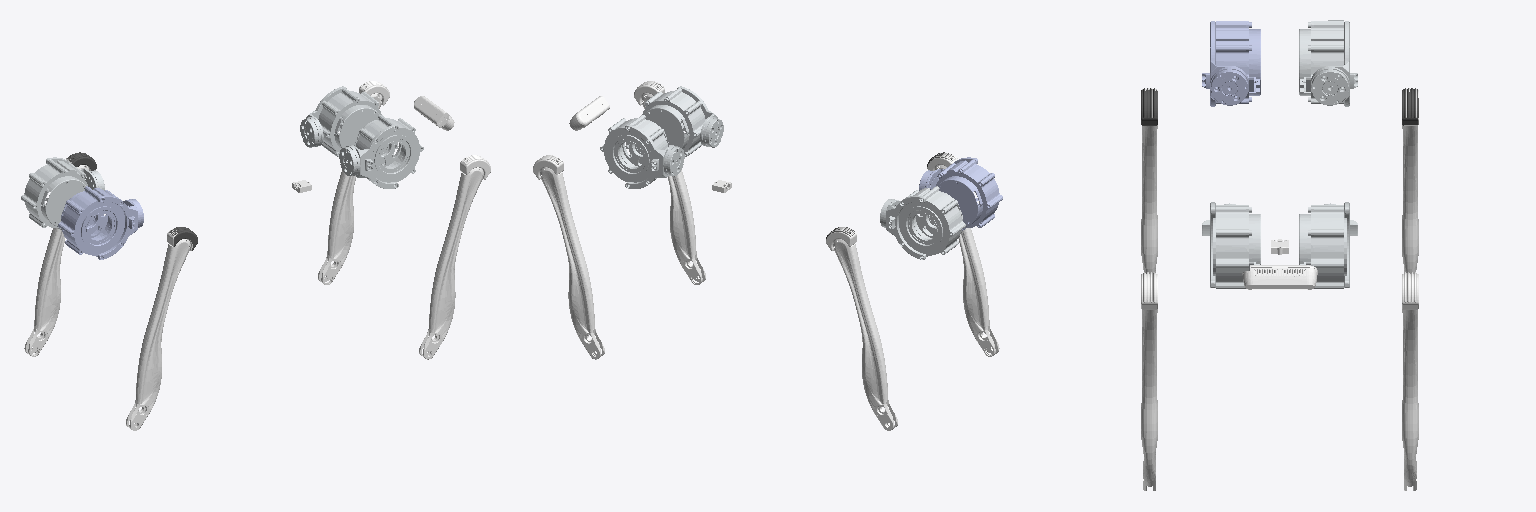
--- Facts derived from the render (not from the file) ---
Views: 3 orthographic renders of the robot side by side, from view 1: azimuth 30°, elevation 25°; view 2: azimuth 150°, elevation 25°; view 3: azimuth 270°, elevation 25°.
Model leg_urdf20250406_1 with 19 links and 18 joints (12 revolute, 6 fixed), rooted at base, posed every joint at zero.
Links seen in each view (by area): view 1: RH_hip, RF_hip, RF_calf, RH_calf, LF_hip, LH_hip, LF_calf, LH_calf, radar; view 2: LH_hip, LF_hip, LF_calf, LH_calf, RF_hip, RH_hip, RH_calf, RF_calf, radar; view 3: LH_hip, RH_hip, RF_hip, LF_hip, LF_calf, RF_calf, LH_calf, RH_calf, radar, RH_FOOT, LH_FOOT.
Link boxes in pixels (box(x1,y1,x2,y2)): RH_hip: box(58, 186, 143, 259); RF_hip: box(339, 115, 423, 188); RF_calf: box(419, 155, 490, 359); RH_calf: box(126, 229, 192, 430); LF_hip: box(300, 86, 381, 156); LH_hip: box(21, 157, 104, 230); LF_calf: box(318, 81, 389, 284); LH_calf: box(24, 156, 90, 356); radar: box(414, 96, 454, 130); LH_hip: box(880, 186, 965, 259); LF_hip: box(600, 115, 684, 188); LF_calf: box(533, 155, 604, 359); LH_calf: box(826, 227, 897, 430); RF_hip: box(642, 86, 723, 156); RH_hip: box(919, 157, 1002, 230); RH_calf: box(927, 153, 999, 356); RF_calf: box(634, 81, 705, 284); radar: box(569, 96, 609, 130); LH_hip: box(1299, 20, 1357, 106); RH_hip: box(1202, 21, 1260, 106); RF_hip: box(1202, 202, 1260, 288); LF_hip: box(1299, 202, 1357, 288); LF_calf: box(1402, 272, 1418, 490); RF_calf: box(1141, 272, 1157, 490); LH_calf: box(1402, 88, 1418, 273); RH_calf: box(1141, 88, 1157, 273); radar: box(1242, 265, 1317, 289); RH_FOOT: box(1141, 88, 1157, 125); LH_FOOT: box(1402, 88, 1418, 125).
Size in the robot's own frame: 0.7051 by 0.3324 by 0.3665 metres.
12 mesh visuals loaded from 19 distinct referenced files (12 binary STL); not drawn: 7 (reference not matched to a file when rendering).

URDF robot description (leg_urdf20250406_1):
<?xml version="1.0" encoding="utf-8"?>
<!-- This URDF was automatically created by SolidWorks to URDF Exporter! Originally created by Stephen Brawner ([email redacted]) 
     Commit Version: 1.6.0-4-g7f85cfe  Build Version: 1.6.7995.38578
     For more information, please see http://wiki.ros.org/sw_urdf_exporter -->
<robot
  name="leg_urdf20250406_1">
  <link
    name="base">
    <inertial>
      <origin
        xyz="-0.00666994354798821 -0.00367478648614624 -0.00479457299054264"
        rpy="0 0 0" />
      <mass
        value="5.3831834784074" />
      <inertia
        ixx="0.0134365880256581"
        ixy="-6.98705145585407E-06"
        ixz="-0.000207105149004796"
        iyy="0.0316650195136883"
        iyz="-9.53275616294603E-06"
        izz="0.0395984955133003" />
    </inertial>
    <visual>
      <origin
        xyz="0 0 0"
        rpy="0 0 0" />
      <geometry>
        <mesh
          filename="package://leg_urdf20250406_1/meshes/base.STL" />
      </geometry>
      <material
        name="">
        <color
          rgba="0.250980392156863 0.250980392156863 0.250980392156863 1" />
      </material>
    </visual>
    <collision>
      <origin
        xyz="0 0 0"
        rpy="0 0 0" />
      <geometry>
        <mesh
          filename="package://leg_urdf20250406_1/meshes/base.STL" />
      </geometry>
    </collision>
  </link>
  <link
    name="LF_hip">
    <inertial>
      <origin
        xyz="0.0428644646355625 -0.000473942948605782 -2.89259060404223E-05"
        rpy="0 0 0" />
      <mass
        value="0.163855342532761" />
      <inertia
        ixx="0.000123407065869539"
        ixy="-5.21571669964711E-06"
        ixz="-1.15545533581441E-06"
        iyy="0.000195800279741792"
        iyz="-9.89068374005758E-08"
        izz="0.000104939612250177" />
    </inertial>
    <visual>
      <origin
        xyz="0 0 0"
        rpy="0 0 0" />
      <geometry>
        <mesh
          filename="package://leg_urdf20250406_1/meshes/LF_hip.STL" />
      </geometry>
      <material
        name="">
        <color
          rgba="0.898039215686275 0.917647058823529 0.929411764705882 1" />
      </material>
    </visual>
    <collision>
      <origin
        xyz="0 0 0"
        rpy="0 0 0" />
      <geometry>
        <mesh
          filename="package://leg_urdf20250406_1/meshes/LF_hip.STL" />
      </geometry>
    </collision>
  </link>
  <joint
    name="LF_HAA"
    type="revolute">
    <origin
      xyz="0.1978 0.06 -0.0073383"
      rpy="0 0 0" />
    <parent
      link="base" />
    <child
      link="LF_hip" />
    <axis
      xyz="1 0 0" />
    <limit
      lower="-1.05"
      upper="1.05"
      effort="60"
      velocity="15" />
  </joint>
  <link
    name="LF_thigh">
    <inertial>
      <origin
        xyz="0.0043668372079394 0.0220762223078676 -0.0940952641066131"
        rpy="0 0 0" />
      <mass
        value="0.88264952697142" />
      <inertia
        ixx="0.00415924322538449"
        ixy="-5.34750962434049E-06"
        ixz="-9.05829574075122E-05"
        iyy="0.00457431590966923"
        iyz="3.50945459310959E-05"
        izz="0.000520630016824553" />
    </inertial>
    <visual>
      <origin
        xyz="0 0 0"
        rpy="0 0 0" />
      <geometry>
        <mesh
          filename="package://leg_urdf20250406_1/meshes/LF_thigh.STL" />
      </geometry>
      <material
        name="">
        <color
          rgba="0.898039215686275 0.917647058823529 0.929411764705882 1" />
      </material>
    </visual>
    <collision>
      <origin
        xyz="0 0 0"
        rpy="0 0 0" />
      <geometry>
        <mesh
          filename="package://leg_urdf20250406_1/meshes/LF_thigh.STL" />
      </geometry>
    </collision>
  </link>
  <joint
    name="LF_HFE"
    type="revolute">
    <origin
      xyz="0.0627 0.0624 0"
      rpy="0 0 0" />
    <parent
      link="LF_hip" />
    <child
      link="LF_thigh" />
    <axis
      xyz="0 1 0" />
    <limit
      lower="-1.57"
      upper="3.35"
      effort="60"
      velocity="15" />
  </joint>
  <link
    name="LF_calf">
    <inertial>
      <origin
        xyz="0.0353231393749997 0.000329711873662181 0.137279161740425"
        rpy="0 0 0" />
      <mass
        value="0.291228893559729" />
      <inertia
        ixx="0.00107142137463083"
        ixy="8.16218987771123E-08"
        ixz="-0.000225822383336276"
        iyy="0.0011429950874814"
        iyz="1.42384757266927E-07"
        izz="8.3967835261648E-05" />
    </inertial>
    <visual>
      <origin
        xyz="0 0 0"
        rpy="0 0 0" />
      <geometry>
        <mesh
          filename="package://leg_urdf20250406_1/meshes/LF_calf.STL" />
      </geometry>
      <material
        name="">
        <color
          rgba="1 1 1 1" />
      </material>
    </visual>
    <collision>
      <origin
        xyz="0 0 0"
        rpy="0 0 0" />
      <geometry>
        <mesh
          filename="package://leg_urdf20250406_1/meshes/LF_calf.STL" />
      </geometry>
    </collision>
  </link>
  <joint
    name="LF_KFE"
    type="revolute">
    <origin
      xyz="0.024642 0.033 -0.28146"
      rpy="0 0 0" />
    <parent
      link="LF_thigh" />
    <child
      link="LF_calf" />
    <axis
      xyz="0 1 0" />
    <limit
      lower="0"
      upper="2.2"
      effort="60"
      velocity="15" />
  </joint>
  <link
    name="LF_FOOT">
    <inertial>
      <origin
        xyz="-0.609114064249484 0.332622028991796 -0.155700005966804"
        rpy="0 0 0" />
      <mass
        value="0.0259775757821094" />
      <inertia
        ixx="5.12957211624476E-06"
        ixy="-1.23448279124937E-06"
        ixz="-1.64037105362392E-12"
        iyy="2.66954930549516E-06"
        iyz="1.55483362743266E-12"
        izz="6.06492352296267E-06" />
    </inertial>
    <visual>
      <origin
        xyz="0 0 0"
        rpy="0 0 0" />
      <geometry>
        <mesh
          filename="package://leg_urdf20250406_1/meshes/LF_FOOT.STL" />
      </geometry>
      <material
        name="">
        <color
          rgba="0.384313725490196 0.384313725490196 0.384313725490196 1" />
      </material>
    </visual>
    <collision>
      <origin
        xyz="0 0 0"
        rpy="0 0 0" />
      <geometry>
        <mesh
          filename="package://leg_urdf20250406_1/meshes/LF_FOOT.STL" />
      </geometry>
    </collision>
  </link>
  <joint
    name="LF_foot_fixed"
    type="fixed">
    <origin
      xyz="-0.28514 -0.1554 -0.31854"
      rpy="-1.5708 1.5219 3.1416" />
    <parent
      link="LF_calf" />
    <child
      link="LF_FOOT" />
    <axis
      xyz="0 0 0" />
    <limit
      lower="-2.72"
      upper="-0.84"
      effort="60"
      velocity="15" />
  </joint>
  <link
    name="LH_hip">
    <inertial>
      <origin
        xyz="-0.0433644646355626 -0.000473926080253428 2.89141840377205E-05"
        rpy="0 0 0" />
      <mass
        value="0.16385534253276" />
      <inertia
        ixx="0.000123407065871323"
        ixy="5.21572443490012E-06"
        ixz="-1.1554607753371E-06"
        iyy="0.000195800284945129"
        iyz="9.89086414015594E-08"
        izz="0.000104939607045861" />
    </inertial>
    <visual>
      <origin
        xyz="0 0 0"
        rpy="0 0 0" />
      <geometry>
        <mesh
          filename="package://leg_urdf20250406_1/meshes/LH_hip.STL" />
      </geometry>
      <material
        name="">
        <color
          rgba="0.898039215686275 0.917647058823529 0.929411764705882 1" />
      </material>
    </visual>
    <collision>
      <origin
        xyz="0 0 0"
        rpy="0 0 0" />
      <geometry>
        <mesh
          filename="package://leg_urdf20250406_1/meshes/LH_hip.STL" />
      </geometry>
    </collision>
  </link>
  <joint
    name="LH_HAA"
    type="revolute">
    <origin
      xyz="-0.1973 0.06 -0.0073383"
      rpy="0 0 0" />
    <parent
      link="base" />
    <child
      link="LH_hip" />
    <axis
      xyz="-1 0 0" />
    <limit
      lower="-1.05"
      upper="1.05"
      effort="60"
      velocity="15" />
  </joint>
  <link
    name="LH_thigh">
    <inertial>
      <origin
        xyz="0.00698098658499391 0.0650895835487088 -0.0944113374299796"
        rpy="0 0 0" />
      <mass
        value="0.87844754011797" />
      <inertia
        ixx="0.00416751711240658"
        ixy="-5.4314352760058E-06"
        ixz="-0.000180811663515122"
        iyy="0.00457418070906083"
        iyz="3.50856542955741E-05"
        izz="0.000512192179044658" />
    </inertial>
    <visual>
      <origin
        xyz="0 0 0"
        rpy="0 0 0" />
      <geometry>
        <mesh
          filename="package://leg_urdf20250406_1/meshes/LH_thigh.STL" />
      </geometry>
      <material
        name="">
        <color
          rgba="0.898039215686275 0.917647058823529 0.929411764705882 1" />
      </material>
    </visual>
    <collision>
      <origin
        xyz="0 0 0"
        rpy="0 0 0" />
      <geometry>
        <mesh
          filename="package://leg_urdf20250406_1/meshes/LH_thigh.STL" />
      </geometry>
    </collision>
  </link>
  <joint
    name="LH_HFE"
    type="revolute">
    <origin
      xyz="-0.0632 0.0195 0"
      rpy="0 0 0" />
    <parent
      link="LH_hip" />
    <child
      link="LH_thigh" />
    <axis
      xyz="0 1 0" />
    <limit
      lower="-1.57"
      upper="3.35"
      effort="60"
      velocity="15" />
  </joint>
  <link
    name="LH_calf">
    <inertial>
      <origin
        xyz="0.0353231355307007 0.000329711697073992 0.137279150221482"
        rpy="0 0 0" />
      <mass
        value="0.291228915887503" />
      <inertia
        ixx="0.0010714213899989"
        ixy="8.16207863463705E-08"
        ixz="-0.000225822386394398"
        iyy="0.0011429951089131"
        iyz="1.42385051826753E-07"
        izz="8.39678417730992E-05" />
    </inertial>
    <visual>
      <origin
        xyz="0 0 0"
        rpy="0 0 0" />
      <geometry>
        <mesh
          filename="package://leg_urdf20250406_1/meshes/LH_calf.STL" />
      </geometry>
      <material
        name="">
        <color
          rgba="1 1 1 1" />
      </material>
    </visual>
    <collision>
      <origin
        xyz="0 0 0"
        rpy="0 0 0" />
      <geometry>
        <mesh
          filename="package://leg_urdf20250406_1/meshes/LH_calf.STL" />
      </geometry>
    </collision>
  </link>
  <joint
    name="LH_KFE"
    type="revolute">
    <origin
      xyz="0.025437 0.0759 -0.28147"
      rpy="0 0 0" />
    <parent
      link="LH_thigh" />
    <child
      link="LH_calf" />
    <axis
      xyz="0 1 0" />
    <limit
      lower="0"
      upper="2.2"
      effort="60"
      velocity="15" />
  </joint>
  <link
    name="LH_FOOT">
    <inertial>
      <origin
        xyz="-0.583678557933396 -0.186960008814274 -0.155700005962273"
        rpy="0 0 0" />
      <mass
        value="0.0259775757821093" />
      <inertia
        ixx="5.12957211624465E-06"
        ixy="-1.23448279124936E-06"
        ixz="-1.64037100187899E-12"
        iyy="2.66954930549516E-06"
        iyz="1.5548337140878E-12"
        izz="6.06492352296258E-06" />
    </inertial>
    <visual>
      <origin
        xyz="0 0 0"
        rpy="0 0 0" />
      <geometry>
        <mesh
          filename="package://leg_urdf20250406_1/meshes/LH_FOOT.STL" />
      </geometry>
      <material
        name="">
        <color
          rgba="0.384313725490196 0.384313725490196 0.384313725490196 1" />
      </material>
    </visual>
    <collision>
      <origin
        xyz="0 0 0"
        rpy="0 0 0" />
      <geometry>
        <mesh
          filename="package://leg_urdf20250406_1/meshes/LH_FOOT.STL" />
      </geometry>
    </collision>
  </link>
  <joint
    name="LH_foot_fixed"
    type="fixed">
    <origin
      xyz="0.23506 -0.1554 -0.31853"
      rpy="-1.5708 1.5219 3.1416" />
    <parent
      link="LH_calf" />
    <child
      link="LH_FOOT" />
    <axis
      xyz="0 0 0" />
    <limit
      lower="-2.72"
      upper="-0.84"
      effort="60"
      velocity="15" />
  </joint>
  <link
    name="RF_hip">
    <inertial>
      <origin
        xyz="0.0433644648693298 0.000473947962982293 -2.892174441671E-05"
        rpy="0 0 0" />
      <mass
        value="0.163855386935685" />
      <inertia
        ixx="0.000123407074924426"
        ixy="5.21571674467526E-06"
        ixz="-1.15545094341874E-06"
        iyy="0.000195800300641504"
        iyz="9.8910369423452E-08"
        izz="0.000104939625038023" />
    </inertial>
    <visual>
      <origin
        xyz="0 0 0"
        rpy="0 0 0" />
      <geometry>
        <mesh
          filename="package://leg_urdf20250406_1/meshes/RF_hip.STL" />
      </geometry>
      <material
        name="">
        <color
          rgba="0.898039215686275 0.917647058823529 0.929411764705882 1" />
      </material>
    </visual>
    <collision>
      <origin
        xyz="0 0 0"
        rpy="0 0 0" />
      <geometry>
        <mesh
          filename="package://leg_urdf20250406_1/meshes/RF_hip.STL" />
      </geometry>
    </collision>
  </link>
  <joint
    name="RF_HAA"
    type="revolute">
    <origin
      xyz="0.1973 -0.06 -0.0073383"
      rpy="0 0 0" />
    <parent
      link="base" />
    <child
      link="RF_hip" />
    <axis
      xyz="1 0 0" />
    <limit
      lower="-1.05"
      upper="1.05"
      effort="60"
      velocity="15" />
  </joint>
  <link
    name="RF_thigh">
    <inertial>
      <origin
        xyz="0.00450532741981963 -0.0651233509730108 -0.0943309028284363"
        rpy="0 0 0" />
      <mass
        value="0.880353408720974" />
      <inertia
        ixx="0.00415842883045724"
        ixy="5.34875598523861E-06"
        ixz="-9.05011725768452E-05"
        iyy="0.0045734761437616"
        iyz="-3.5063093538206E-05"
        izz="0.000520561613293801" />
    </inertial>
    <visual>
      <origin
        xyz="0 0 0"
        rpy="0 0 0" />
      <geometry>
        <mesh
          filename="package://leg_urdf20250406_1/meshes/RF_thigh.STL" />
      </geometry>
      <material
        name="">
        <color
          rgba="0.898039215686275 0.917647058823529 0.929411764705882 1" />
      </material>
    </visual>
    <collision>
      <origin
        xyz="0 0 0"
        rpy="0 0 0" />
      <geometry>
        <mesh
          filename="package://leg_urdf20250406_1/meshes/RF_thigh.STL" />
      </geometry>
    </collision>
  </link>
  <joint
    name="RF_HFE"
    type="revolute">
    <origin
      xyz="0.0632 -0.0195 0"
      rpy="0 0 0" />
    <parent
      link="RF_hip" />
    <child
      link="RF_thigh" />
    <axis
      xyz="0 -1 0" />
    <limit
      lower="-3.35"
      upper="1.57"
      effort="60"
      velocity="15" />
  </joint>
  <link
    name="RF_calf">
    <inertial>
      <origin
        xyz="0.0353226630049198 -0.000330081314130204 0.137276291361542"
        rpy="0 0 0" />
      <mass
        value="0.291237111817664" />
      <inertia
        ixx="0.00107148301804938"
        ixy="-8.25716094186912E-08"
        ixz="-0.000225830862552133"
        iyy="0.00114305842409935"
        iyz="-1.42952371989528E-07"
        izz="8.39698788065223E-05" />
    </inertial>
    <visual>
      <origin
        xyz="0 0 0"
        rpy="0 0 0" />
      <geometry>
        <mesh
          filename="package://leg_urdf20250406_1/meshes/RF_calf.STL" />
      </geometry>
      <material
        name="">
        <color
          rgba="1 1 1 1" />
      </material>
    </visual>
    <collision>
      <origin
        xyz="0 0 0"
        rpy="0 0 0" />
      <geometry>
        <mesh
          filename="package://leg_urdf20250406_1/meshes/RF_calf.STL" />
      </geometry>
    </collision>
  </link>
  <joint
    name="FR_KFE"
    type="revolute">
    <origin
      xyz="0.024642 -0.0759 -0.28146"
      rpy="0 0 0" />
    <parent
      link="RF_thigh" />
    <child
      link="RF_calf" />
    <axis
      xyz="0 -1 0" />
    <limit
      lower="-2.2"
      upper="0"
      effort="60"
      velocity="15" />
  </joint>
  <link
    name="RF_FOOT">
    <inertial>
      <origin
        xyz="-0.609114102277992 0.332621951902891 0.155699976456909"
        rpy="0 0 0" />
      <mass
        value="0.0259777190681024" />
      <inertia
        ixx="5.12961013777177E-06"
        ixy="-1.23449156481814E-06"
        ixz="-4.24107873169936E-12"
        iyy="2.66955581065844E-06"
        iyz="4.26735761284486E-12"
        izz="6.06496341868077E-06" />
    </inertial>
    <visual>
      <origin
        xyz="0 0 0"
        rpy="0 0 0" />
      <geometry>
        <mesh
          filename="package://leg_urdf20250406_1/meshes/RF_FOOT.STL" />
      </geometry>
      <material
        name="">
        <color
          rgba="0.384313725490196 0.384313725490196 0.384313725490196 1" />
      </material>
    </visual>
    <collision>
      <origin
        xyz="0 0 0"
        rpy="0 0 0" />
      <geometry>
        <mesh
          filename="package://leg_urdf20250406_1/meshes/RF_FOOT.STL" />
      </geometry>
    </collision>
  </link>
  <joint
    name="RF_foot_fixed"
    type="fixed">
    <origin
      xyz="-0.28514 0.1554 -0.31854"
      rpy="-1.5708 1.5219 3.1416" />
    <parent
      link="RF_calf" />
    <child
      link="RF_FOOT" />
    <axis
      xyz="0 0 0" />
  </joint>
  <link
    name="RH_hip">
    <inertial>
      <origin
        xyz="-0.0249543538828536 0.000473931035222412 2.89098388940312E-05"
        rpy="0 0 0" />
      <mass
        value="0.163855386935684" />
      <inertia
        ixx="0.000123407074915796"
        ixy="-5.21572449366375E-06"
        ixz="-1.15545638178734E-06"
        iyy="0.000195800305834616"
        iyz="-9.89121702762757E-08"
        izz="0.000104939619828057" />
    </inertial>
    <visual>
      <origin
        xyz="0 0 0"
        rpy="0 0 0" />
      <geometry>
        <mesh
          filename="package://leg_urdf20250406_1/meshes/RH_hip.STL" />
      </geometry>
      <material
        name="">
        <color
          rgba="0.792156862745098 0.819607843137255 0.933333333333333 1" />
      </material>
    </visual>
    <collision>
      <origin
        xyz="0 0 0"
        rpy="0 0 0" />
      <geometry>
        <mesh
          filename="package://leg_urdf20250406_1/meshes/RH_hip.STL" />
      </geometry>
    </collision>
  </link>
  <joint
    name="RH_HAA"
    type="revolute">
    <origin
      xyz="-0.21571 -0.06 -0.0073383"
      rpy="0 0 0" />
    <parent
      link="base" />
    <child
      link="RH_hip" />
    <axis
      xyz="-1 0 0" />
    <limit
      lower="-1.05"
      upper="1.05"
      effort="60"
      velocity="15" />
  </joint>
  <link
    name="RH_thigh">
    <inertial>
      <origin
        xyz="0.0071053547978408 -0.0466324579793287 -0.0962519228830085"
        rpy="0 0 0" />
      <mass
        value="0.882603767358935" />
      <inertia
        ixx="0.00416688434105119"
        ixy="5.43278530129404E-06"
        ixz="-0.000180729027710072"
        iyy="0.00457356185846638"
        iyz="-3.50533756829518E-05"
        izz="0.000512221427161332" />
    </inertial>
    <visual>
      <origin
        xyz="0 0 0"
        rpy="0 0 0" />
      <geometry>
        <mesh
          filename="package://leg_urdf20250406_1/meshes/RH_thigh.STL" />
      </geometry>
      <material
        name="">
        <color
          rgba="0.898039215686275 0.917647058823529 0.929411764705882 1" />
      </material>
    </visual>
    <collision>
      <origin
        xyz="0 0 0"
        rpy="0 0 0" />
      <geometry>
        <mesh
          filename="package://leg_urdf20250406_1/meshes/RH_thigh.STL" />
      </geometry>
    </collision>
  </link>
  <joint
    name="RH_HFE"
    type="revolute">
    <origin
      xyz="-0.04479 -0.037843 0.0022486"
      rpy="0 0 0" />
    <parent
      link="RH_hip" />
    <child
      link="RH_thigh" />
    <axis
      xyz="0 -1 0" />
    <limit
      lower="-3.35"
      upper="1.57"
      effort="60"
      velocity="15" />
  </joint>
  <link
    name="RH_calf">
    <inertial>
      <origin
        xyz="0.0353226650342503 -0.000330081368728752 0.137276296674327"
        rpy="0 0 0" />
      <mass
        value="0.29123710209609" />
      <inertia
        ixx="0.0010714830290294"
        ixy="-8.25719195359546E-08"
        ixz="-0.000225830861706052"
        iyy="0.00114305843158035"
        iyz="-1.42952114590494E-07"
        izz="8.3969875336342E-05" />
    </inertial>
    <visual>
      <origin
        xyz="0 0 0"
        rpy="0 0 0" />
      <geometry>
        <mesh
          filename="package://leg_urdf20250406_1/meshes/RH_calf.STL" />
      </geometry>
      <material
        name="">
        <color
          rgba="1 1 1 1" />
      </material>
    </visual>
    <collision>
      <origin
        xyz="0 0 0"
        rpy="0 0 0" />
      <geometry>
        <mesh
          filename="package://leg_urdf20250406_1/meshes/RH_calf.STL" />
      </geometry>
    </collision>
  </link>
  <joint
    name="RH_KFE"
    type="revolute">
    <origin
      xyz="0.025437 -0.057557 -0.28372"
      rpy="0 0 0" />
    <parent
      link="RH_thigh" />
    <child
      link="RH_calf" />
    <axis
      xyz="0 -1 0" />
    <limit
      lower="-2.2"
      upper="0"
      effort="60"
      velocity="15" />
  </joint>
  <link
    name="RH_FOOT">
    <inertial>
      <origin
        xyz="-0.583678593218935 -0.186960079123129 0.155699976461444"
        rpy="0 0 0" />
      <mass
        value="0.0259777190681019" />
      <inertia
        ixx="5.12961011009382E-06"
        ixy="-1.23449159239591E-06"
        ixz="-4.24107872154016E-12"
        iyy="2.66955583833628E-06"
        iyz="4.2673576147764E-12"
        izz="6.06496341868066E-06" />
    </inertial>
    <visual>
      <origin
        xyz="0 0 0"
        rpy="0 0 0" />
      <geometry>
        <mesh
          filename="package://leg_urdf20250406_1/meshes/RH_FOOT.STL" />
      </geometry>
      <material
        name="">
        <color
          rgba="0.384313725490196 0.384313725490196 0.384313725490196 1" />
      </material>
    </visual>
    <collision>
      <origin
        xyz="0 0 0"
        rpy="0 0 0" />
      <geometry>
        <mesh
          filename="package://leg_urdf20250406_1/meshes/RH_FOOT.STL" />
      </geometry>
    </collision>
  </link>
  <joint
    name="RH_foot_fixed"
    type="fixed">
    <origin
      xyz="0.23506 0.1554 -0.31853"
      rpy="-1.5708 1.5219 3.1416" />
    <parent
      link="RH_calf" />
    <child
      link="RH_FOOT" />
    <axis
      xyz="0 0 0" />
  </joint>
  <link
    name="radar">
    <inertial>
      <origin
        xyz="-0.00930141123816997 0.00140743090622108 0.0094960554300354"
        rpy="0 0 0" />
      <mass
        value="0.036472374862583" />
      <inertia
        ixx="2.35206478477541E-05"
        ixy="1.48384222211334E-07"
        ixz="1.03733346132118E-07"
        iyy="3.50666086377059E-06"
        iyz="-1.49535601868332E-07"
        izz="2.34953347005114E-05" />
    </inertial>
    <visual>
      <origin
        xyz="0 0 0"
        rpy="0 0 0" />
      <geometry>
        <mesh
          filename="package://leg_urdf20250406_1/meshes/radar.STL" />
      </geometry>
      <material
        name="">
        <color
          rgba="1 1 1 1" />
      </material>
    </visual>
    <collision>
      <origin
        xyz="0 0 0"
        rpy="0 0 0" />
      <geometry>
        <mesh
          filename="package://leg_urdf20250406_1/meshes/radar.STL" />
      </geometry>
    </collision>
  </link>
  <joint
    name="radar_joint"
    type="fixed">
    <origin
      xyz="0.384721406800267 0 -0.00267182913398634"
      rpy="0 0 0" />
    <parent
      link="base" />
    <child
      link="radar" />
    <axis
      xyz="0 0 0" />
  </joint>
  <link
    name="bae_imu">
    <inertial>
      <origin
        xyz="-0.140227009526513 0.02366124132454 0.0203176869881753"
        rpy="0 0 0" />
      <mass
        value="15.8318733004591" />
      <inertia
        ixx="0.255718512826182"
        ixy="0.00106802564705418"
        ixz="0.00465265090124085"
        iyy="0.880336400355195"
        iyz="-0.0114555500708334"
        izz="0.927312665535392" />
    </inertial>
    <visual>
      <origin
        xyz="0 0 0"
        rpy="0 0 0" />
      <geometry>
        <mesh
          filename="package://leg_urdf20250406_1/meshes/bae_imu.STL" />
      </geometry>
      <material
        name="">
        <color
          rgba="1 1 1 1" />
      </material>
    </visual>
    <collision>
      <origin
        xyz="0 0 0"
        rpy="0 0 0" />
      <geometry>
        <mesh
          filename="package://leg_urdf20250406_1/meshes/bae_imu.STL" />
      </geometry>
    </collision>
  </link>
  <joint
    name="base_imu_joint"
    type="fixed">
    <origin
      xyz="0.14371 0 -0.058338"
      rpy="0 0 0" />
    <parent
      link="base" />
    <child
      link="bae_imu" />
    <axis
      xyz="0 0 0" />
  </joint>
</robot>
